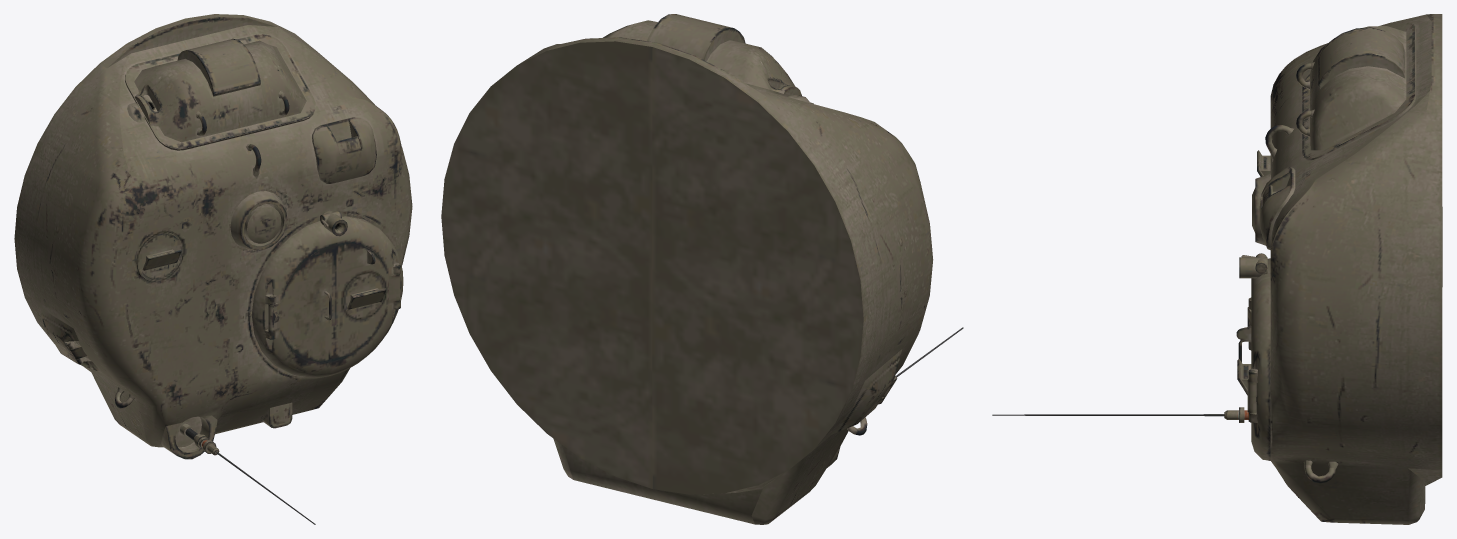
File: Turret_02.glb
3 renders of one model, left to right at view 1: azimuth 30°, elevation 25°; view 2: azimuth 150°, elevation 25°; view 3: azimuth 270°, elevation 25°, orthographic. The views are drawn at different scales.
Visible parts, largest first — view 1: set_0_group_0; view 2: set_0_group_0; view 3: set_0_group_0.
Part boxes in pixels (bbox=[...]): set_0_group_0: bbox=[14, 14, 412, 524]; set_0_group_0: bbox=[441, 14, 963, 524]; set_0_group_0: bbox=[992, 14, 1442, 524].
Bounding box in the file's own units: 2.03 × 2.15 × 1.96.
Materials: 1 (1 with a texture image).
